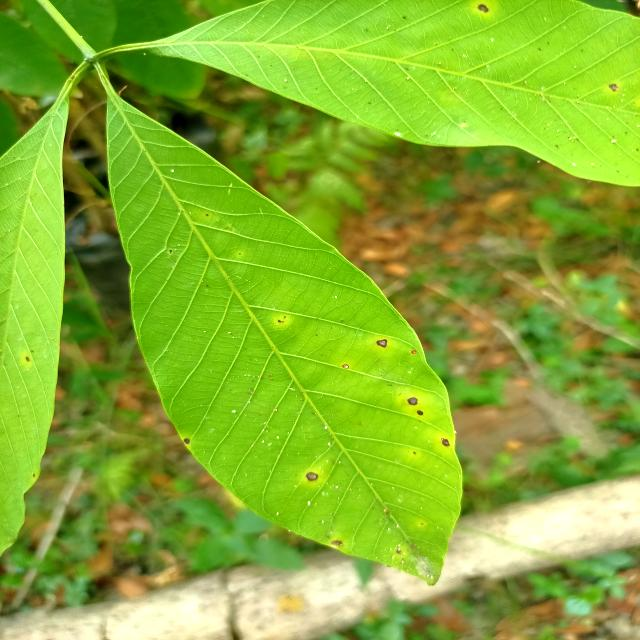Colletotrichum: (306, 472, 318, 481), (477, 4, 489, 13), (376, 339, 387, 348), (407, 397, 418, 405), (608, 84, 618, 92), (331, 540, 343, 546), (442, 438, 450, 446), (184, 438, 190, 444), (342, 364, 349, 369), (417, 410, 423, 415), (26, 356, 30, 362), (411, 350, 416, 354)
